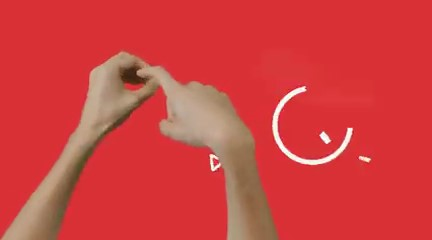Q: (79, 48, 236, 151)
